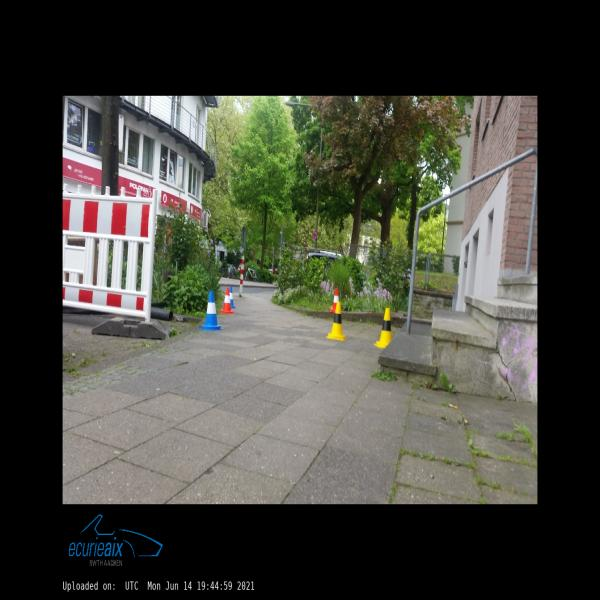blue_cone: (200, 291, 222, 330), (229, 287, 236, 308)
orange_cone: (221, 288, 234, 314), (329, 288, 338, 312)
yellow_cone: (326, 302, 346, 340), (374, 308, 392, 347)
